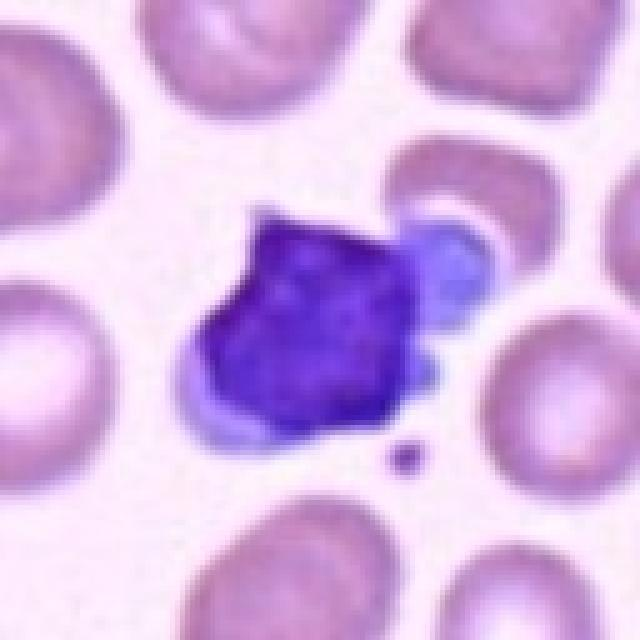lympho: (156, 189, 472, 479)
